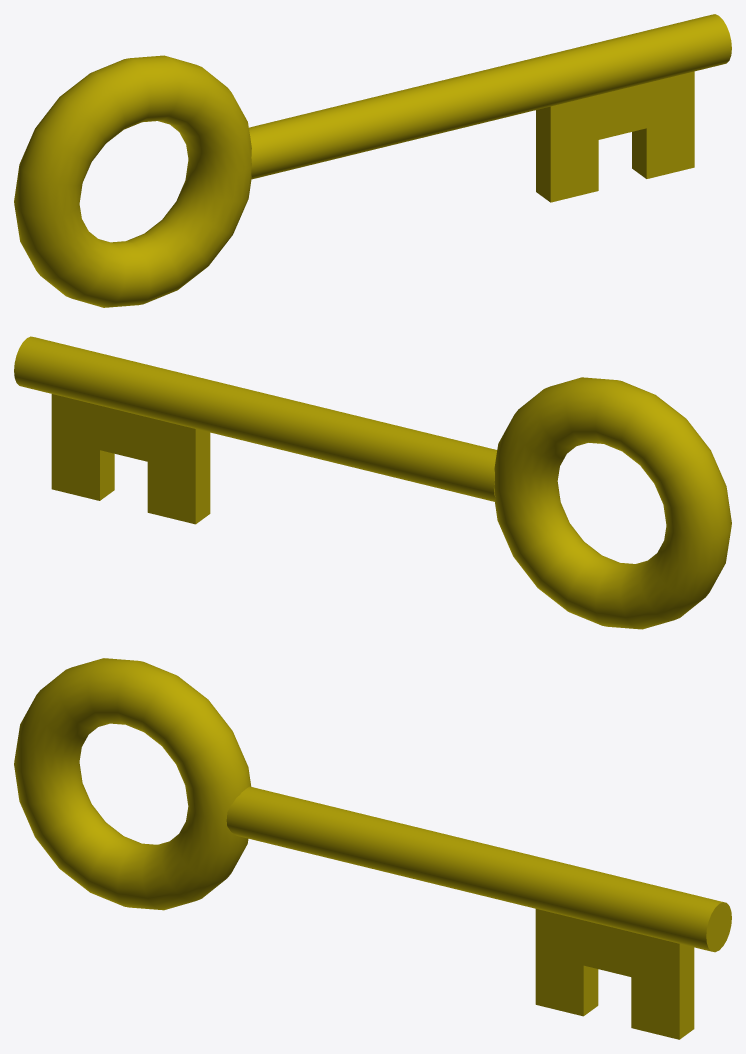
File: Key.fbx
3 renders of one model, top to bottom at view 1: azimuth 30°, elevation 25°; view 2: azimuth 150°, elevation 25°; view 3: azimuth 330°, elevation 25°, orthographic.
Visible parts, largest first — view 1: pCube4; view 2: pCube4; view 3: pCube4.
Boxes of the visible parts, x1,y1,x2,y2 form: pCube4: (14,14,731,307); pCube4: (14,336,731,629); pCube4: (14,658,731,1039).
Size of the model in its own units: 12.29 by 4.06 by 1.
